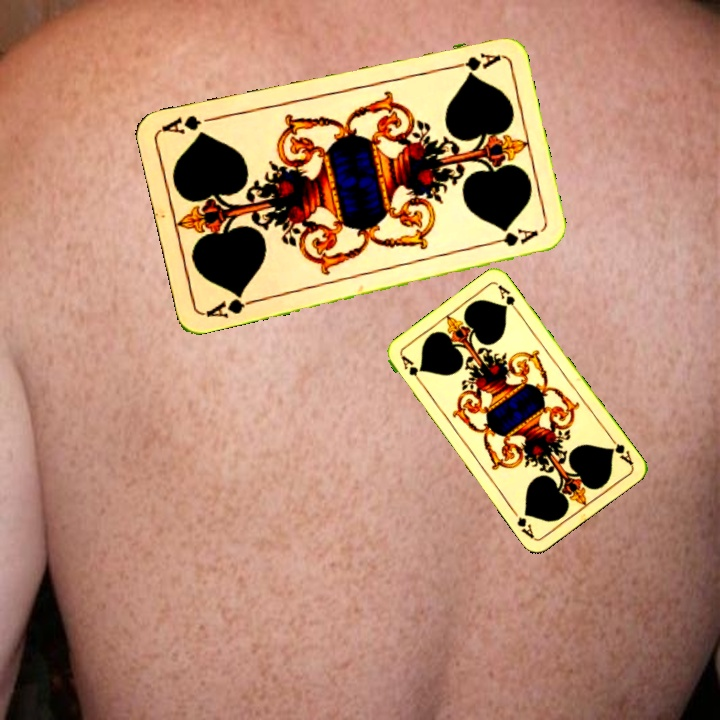GA: (201, 288, 260, 320), (443, 48, 502, 73), (606, 432, 636, 467), (397, 351, 425, 388)
